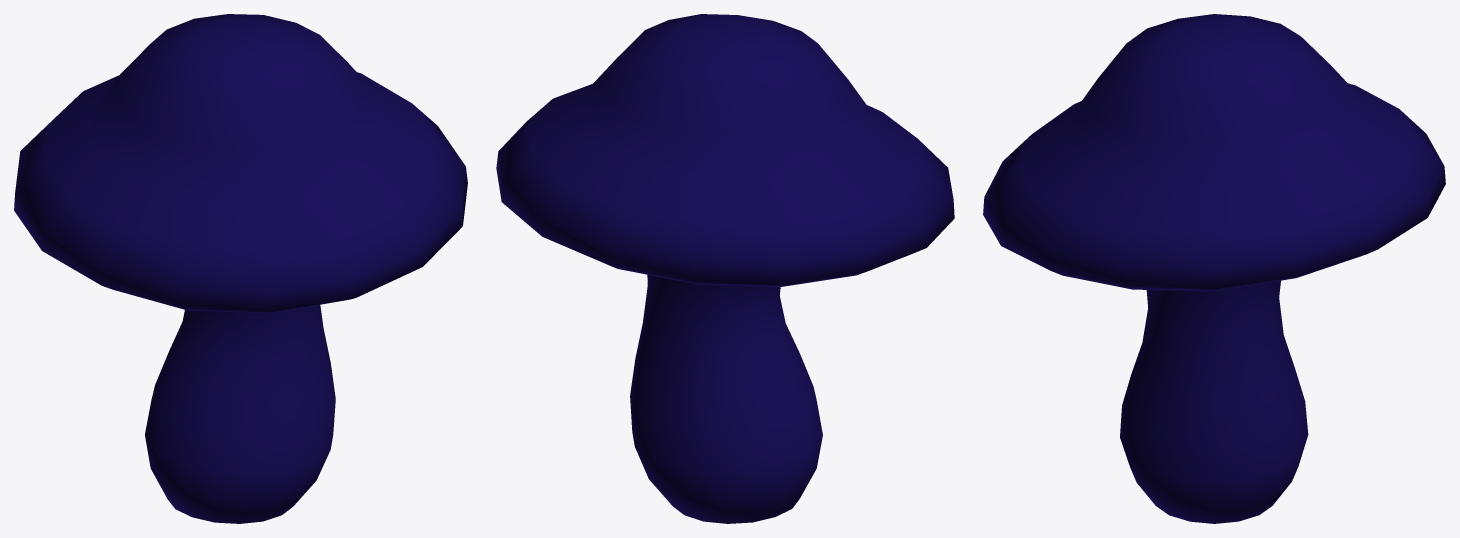
The model's file is Mushroom_Large.fbx.
The picture shows the model from 3 angles, left to right: view 1: azimuth 30°, elevation 25°; view 2: azimuth 150°, elevation 25°; view 3: azimuth 270°, elevation 25°; orthographic projection.
Parts seen in each view (by area): view 1: Mushroom_Large; view 2: Mushroom_Large; view 3: Mushroom_Large.
Boxes of the visible parts, x1=… form: Mushroom_Large: x1=14, y1=14, x2=467, y2=523; Mushroom_Large: x1=496, y1=14, x2=954, y2=523; Mushroom_Large: x1=983, y1=14, x2=1445, y2=523.
Bounding box in the file's own units: 21.58 × 24.37 × 21.53.
